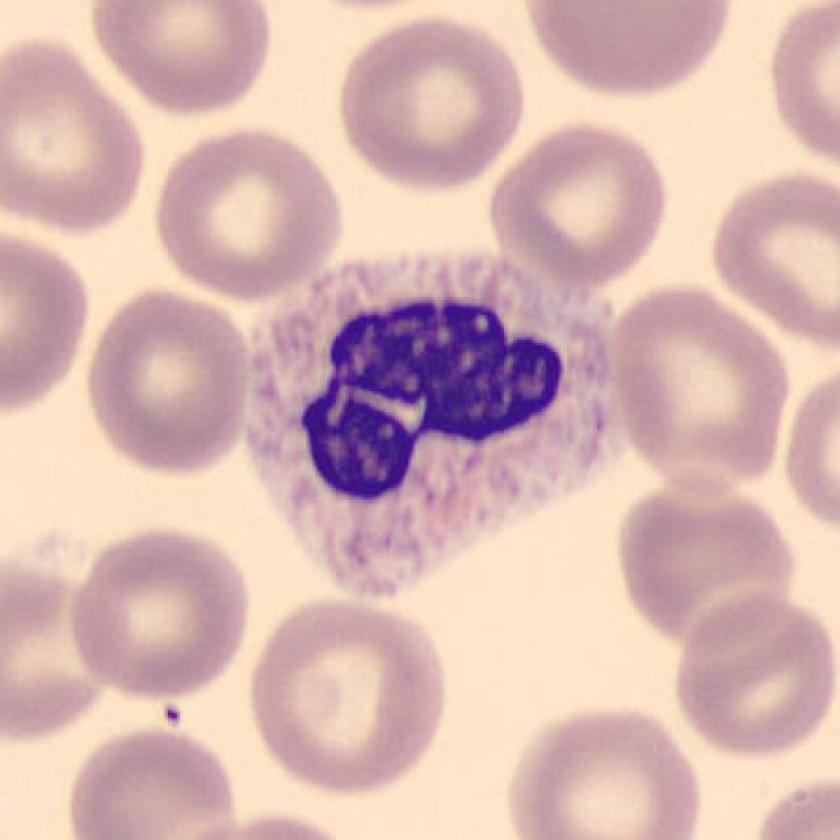neutrophil: (244, 253, 619, 598)
